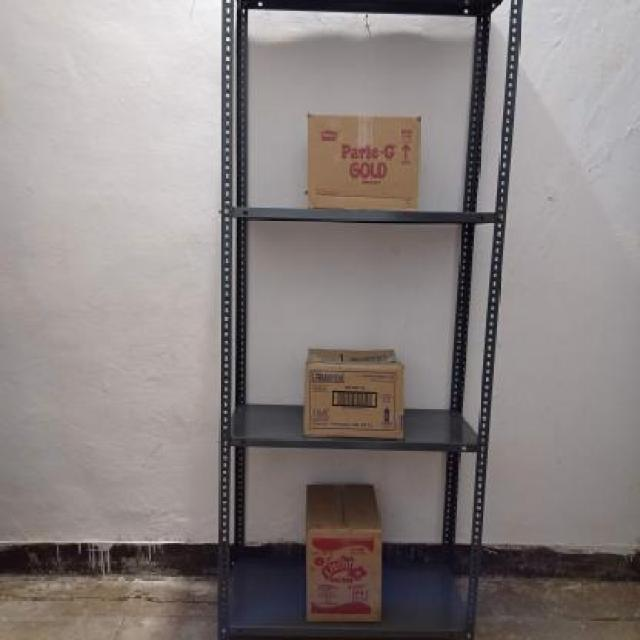box: (306, 112, 419, 210), (304, 360, 406, 442), (304, 528, 382, 624)
